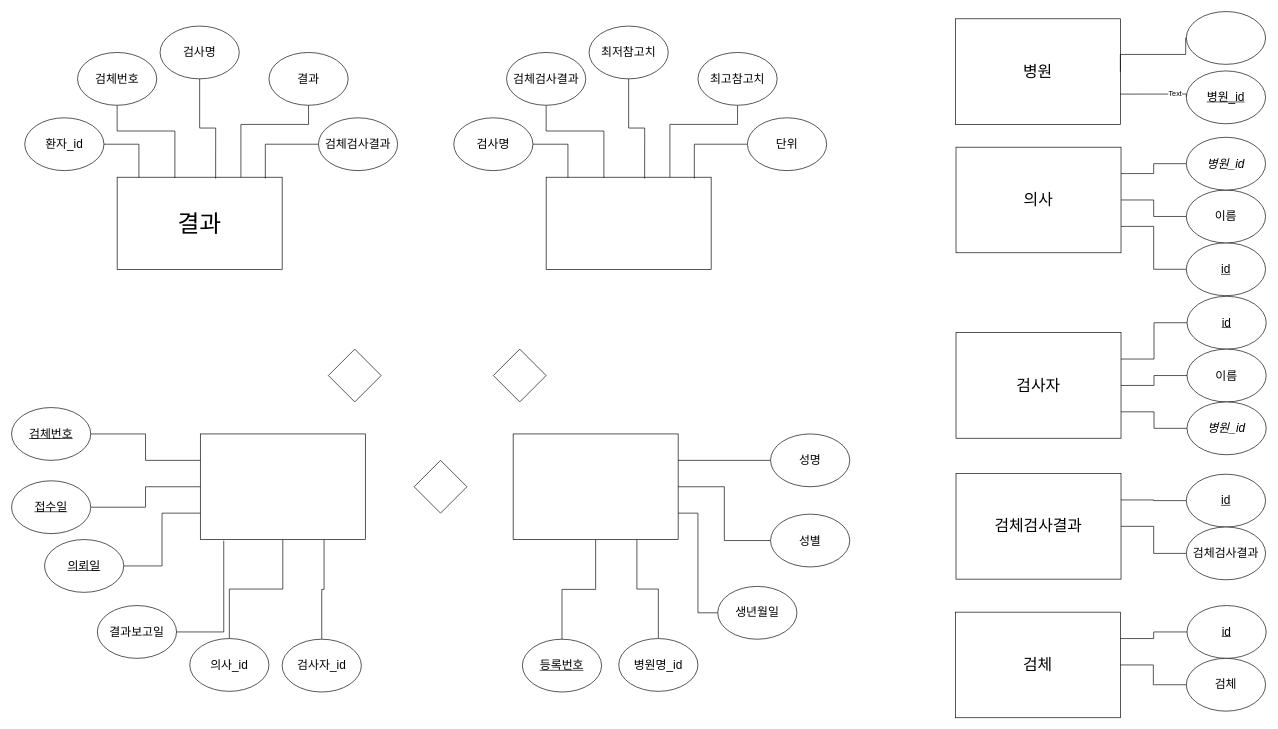
This 1278x729 diagram has some shape labels left out. Each missing label, with the centre of its shape:
"검사" belongs at point 628,223.
"병원명" belongs at point 1226,37.
"접수정보" belongs at point 282,486.
"환자" belongs at point 595,486.
